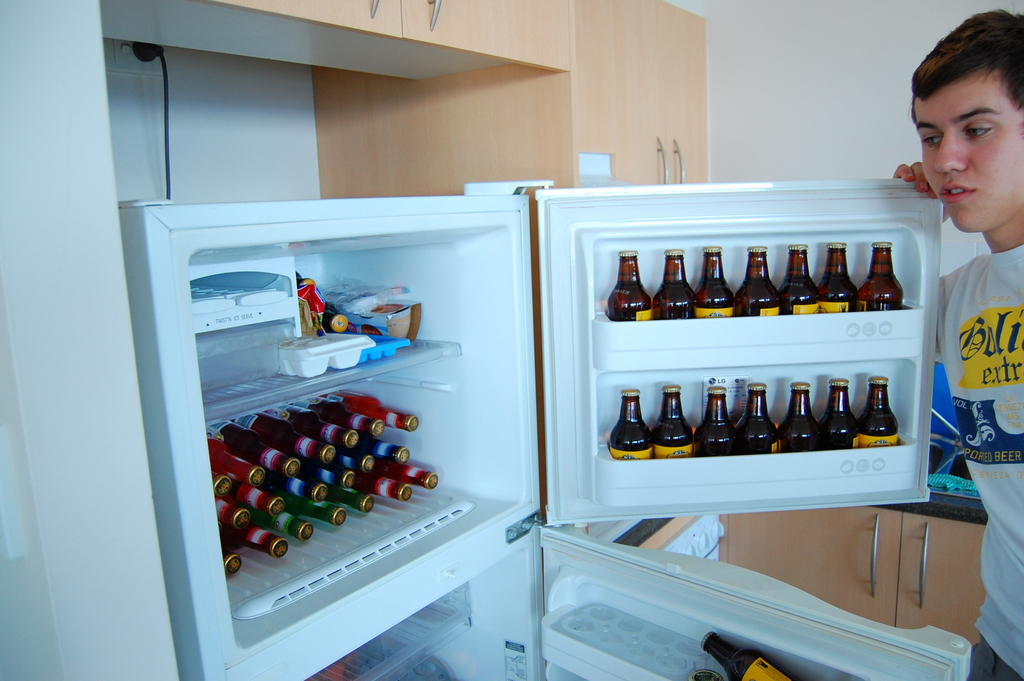cabinet door: (724, 515, 887, 610), (568, 10, 654, 186), (902, 520, 982, 625), (406, 8, 562, 61), (655, 30, 702, 179)
handle: (900, 524, 937, 615), (852, 518, 884, 608), (643, 140, 670, 181), (665, 137, 687, 185), (428, 2, 445, 40)
refrigerator door: (552, 197, 930, 480), (550, 564, 918, 681)
